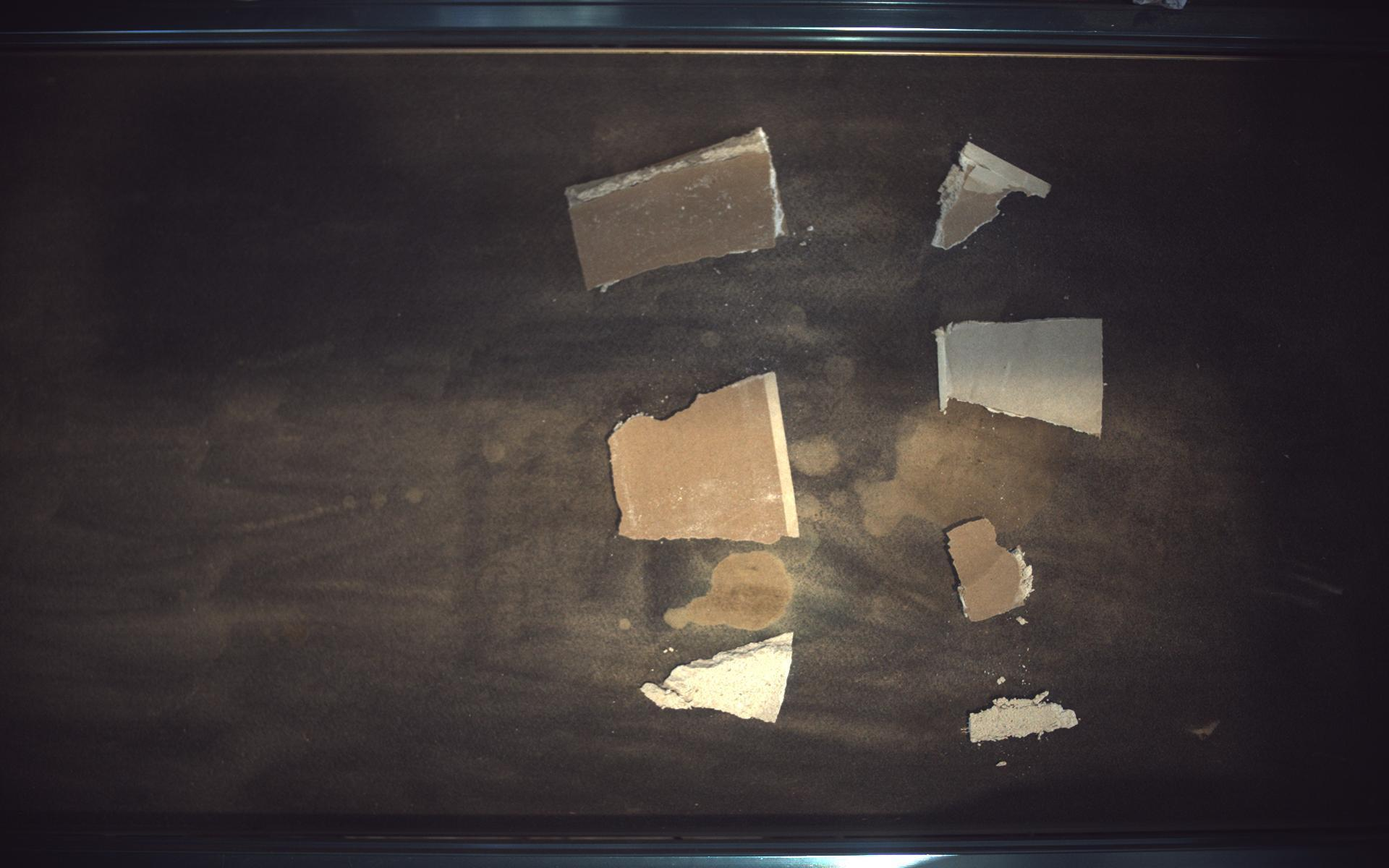gypsum_board: (566, 127, 786, 289), (608, 372, 801, 545), (938, 318, 1105, 436), (642, 634, 795, 724), (934, 140, 1053, 249), (949, 518, 1035, 622), (972, 692, 1080, 744)
